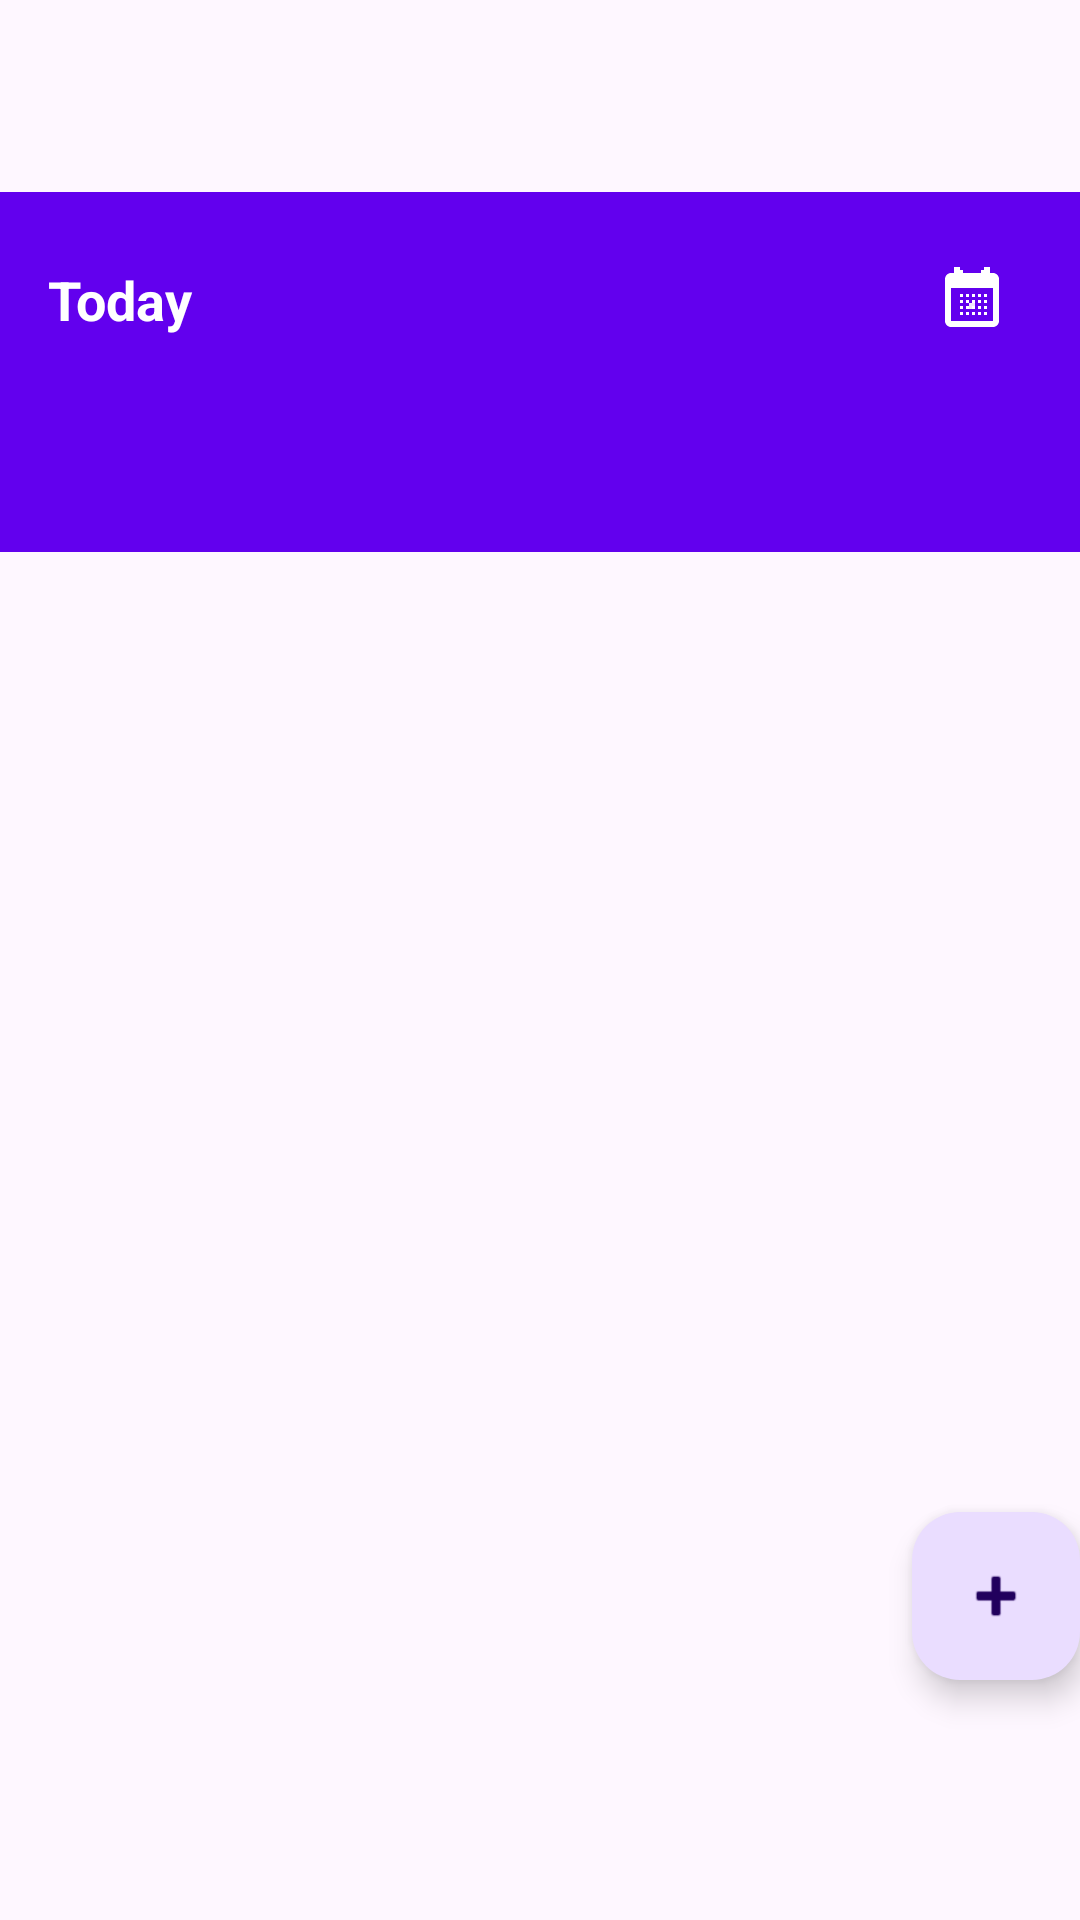

Where to tap for icons on this 1080px×1920px app screen, as (x=x, y=y):
Select Date: (x=972, y=297)
